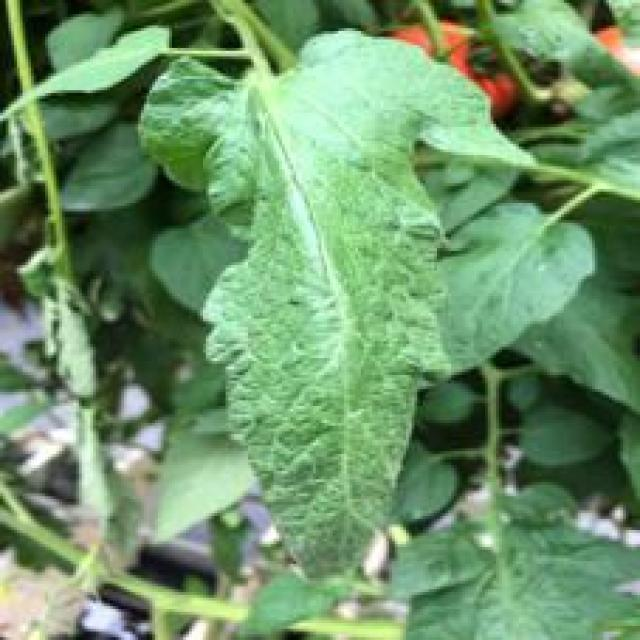Tomato healthy leaf: (135, 28, 516, 586), (435, 197, 595, 378)
